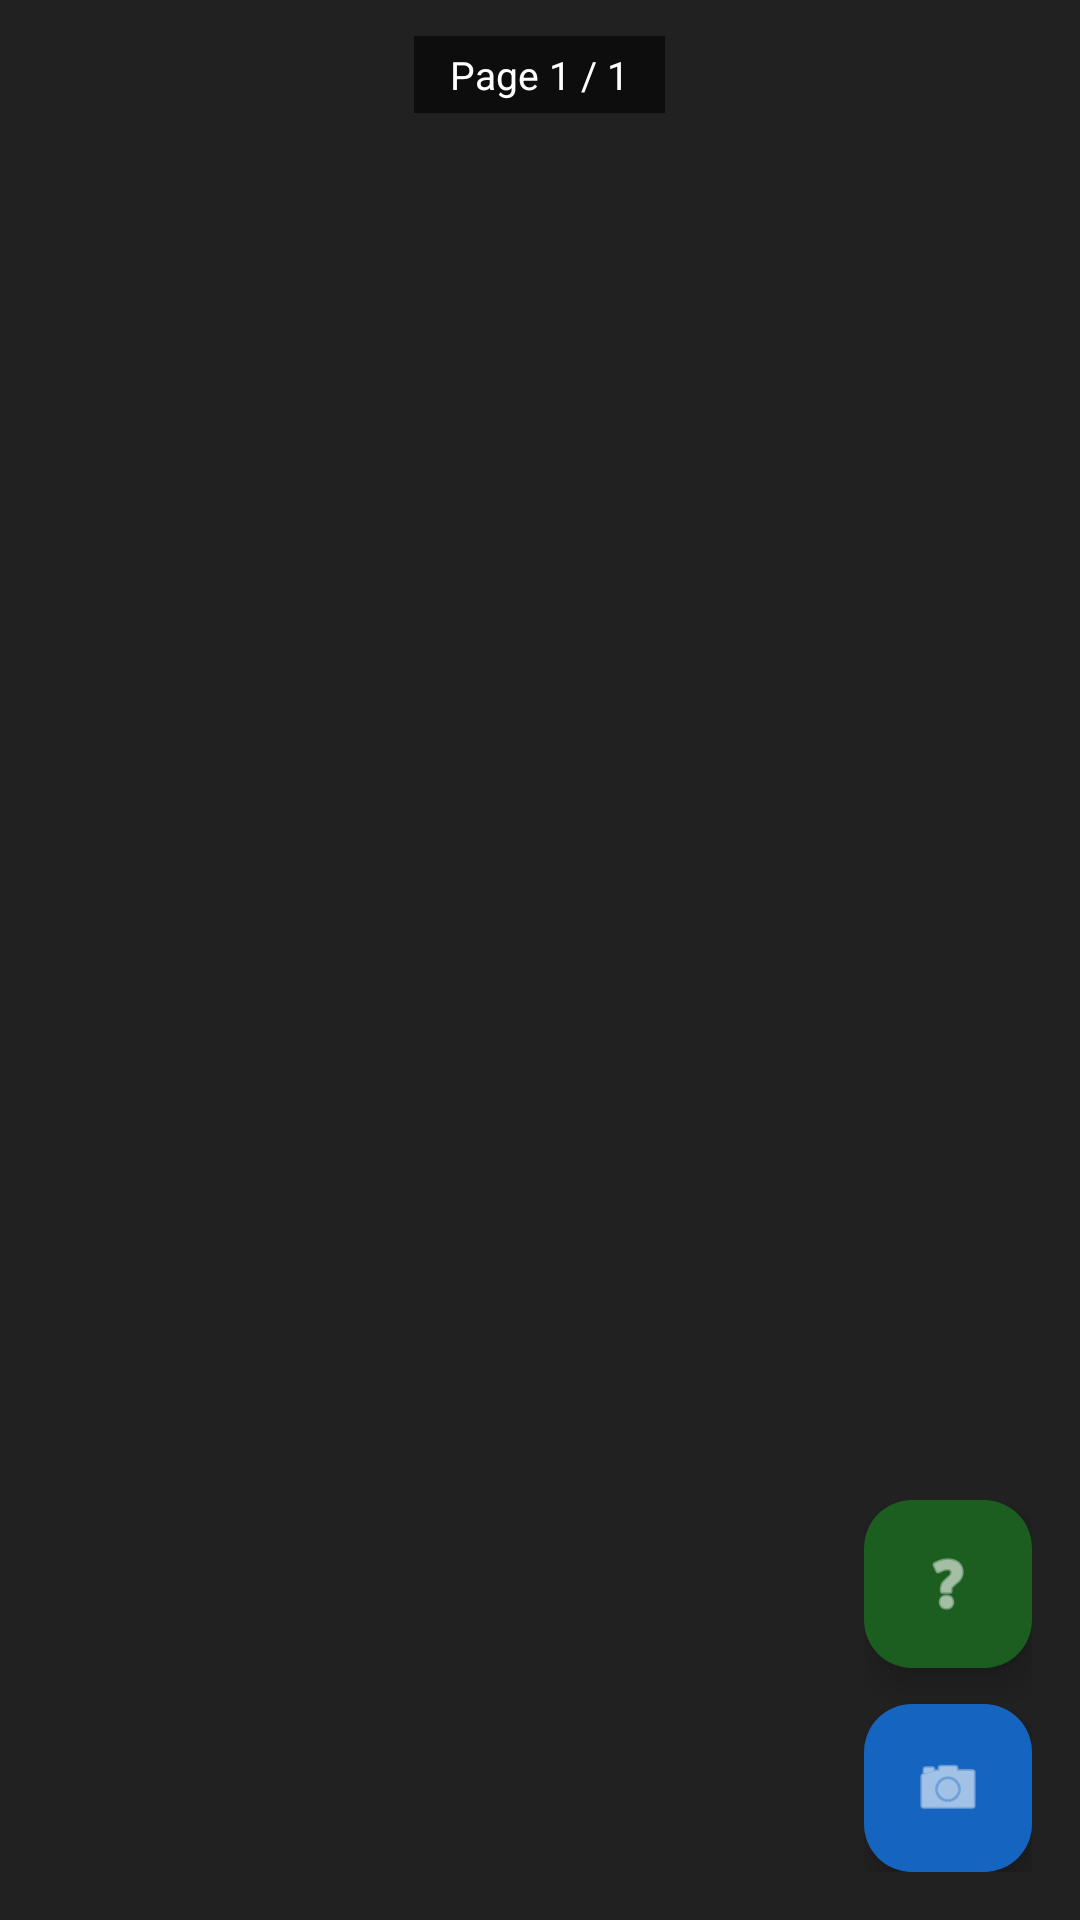

Named icons in this screenshot (1080px×1920px) and their centers, [x,y]:
AI Help: [948,1584]
Take Screenshot: [948,1788]
